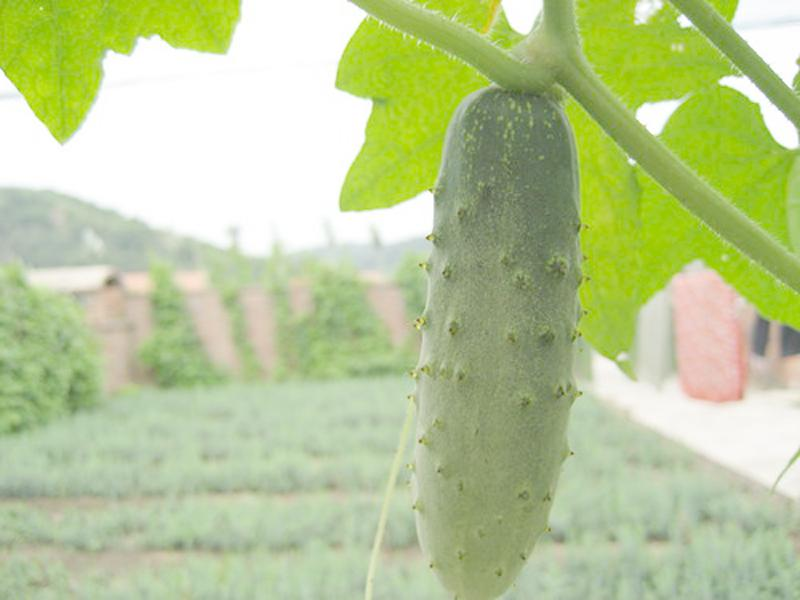Cucumber: (415, 86, 580, 598)
